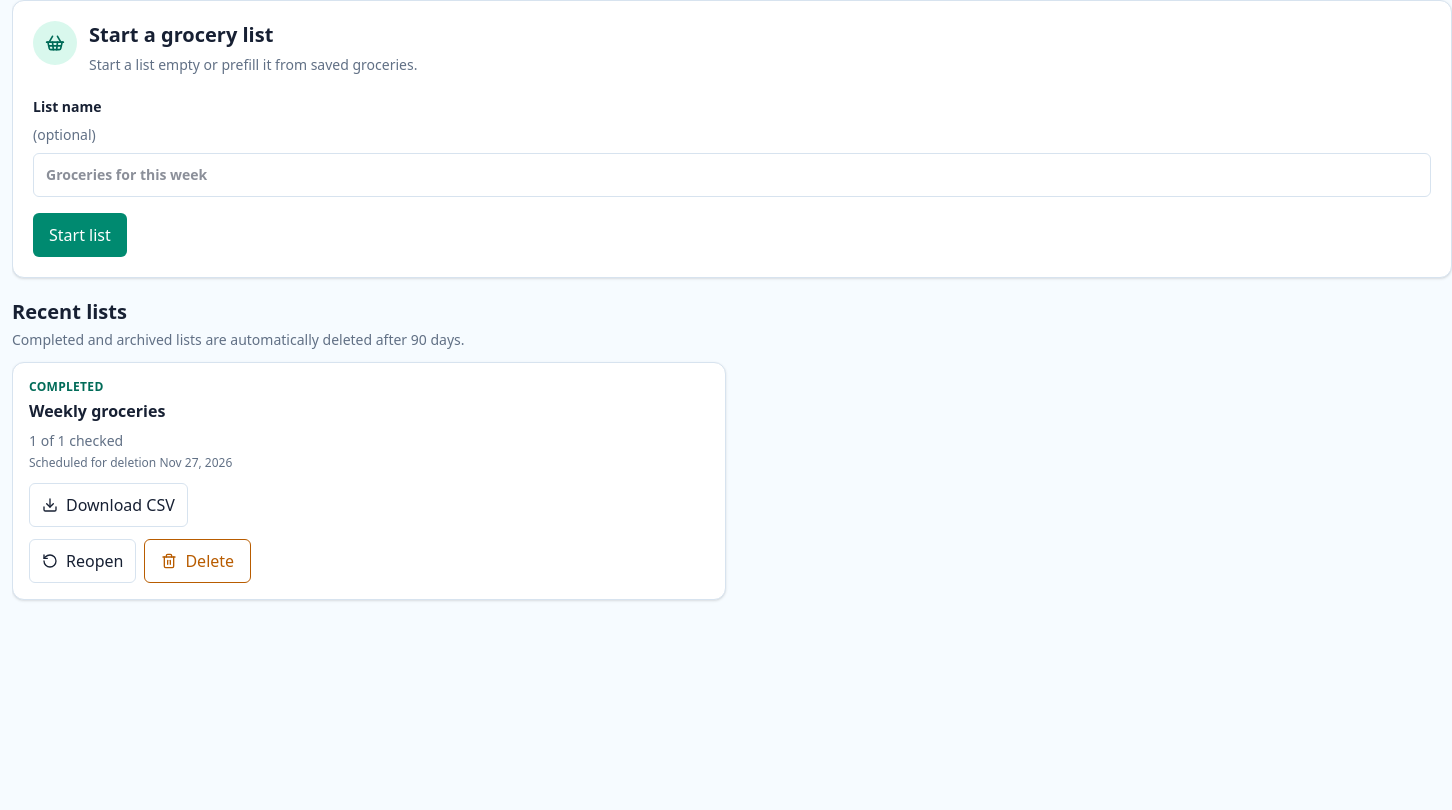
Test: GroceryListManager › confirms permanent list deletion without a browser dialog
The image size is (1452, 810).
Click the button "Delete": point(198, 561) x1=144 y1=539 x2=251 y2=583
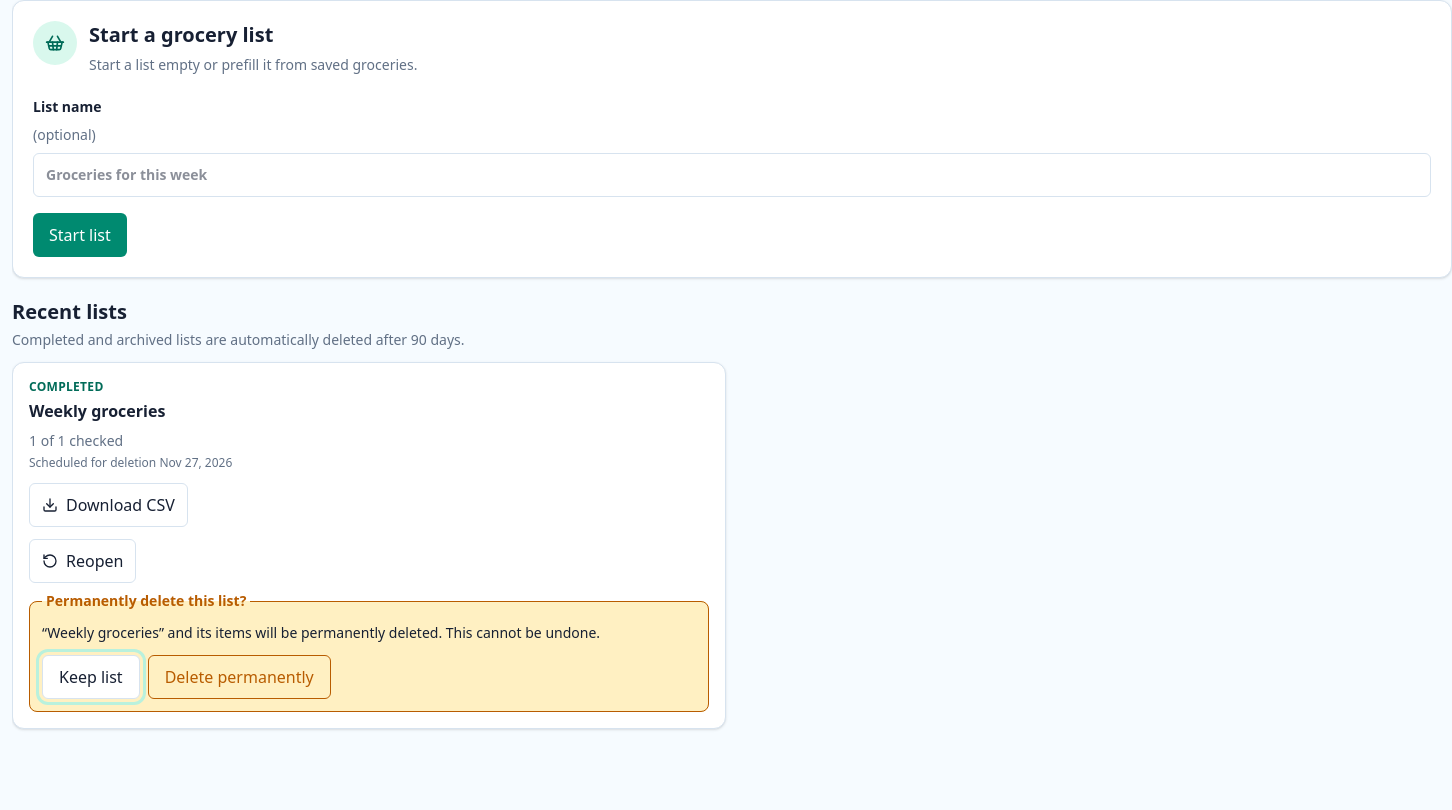
expect the element "Permanently delete this list?" shows "“Weekly groceries” and its items will be permanently deleted. This cannot be undone.": met, box x1=42 y1=623 x2=600 y2=642
Click the button "Keep list": point(91, 677) x1=42 y1=655 x2=140 y2=699
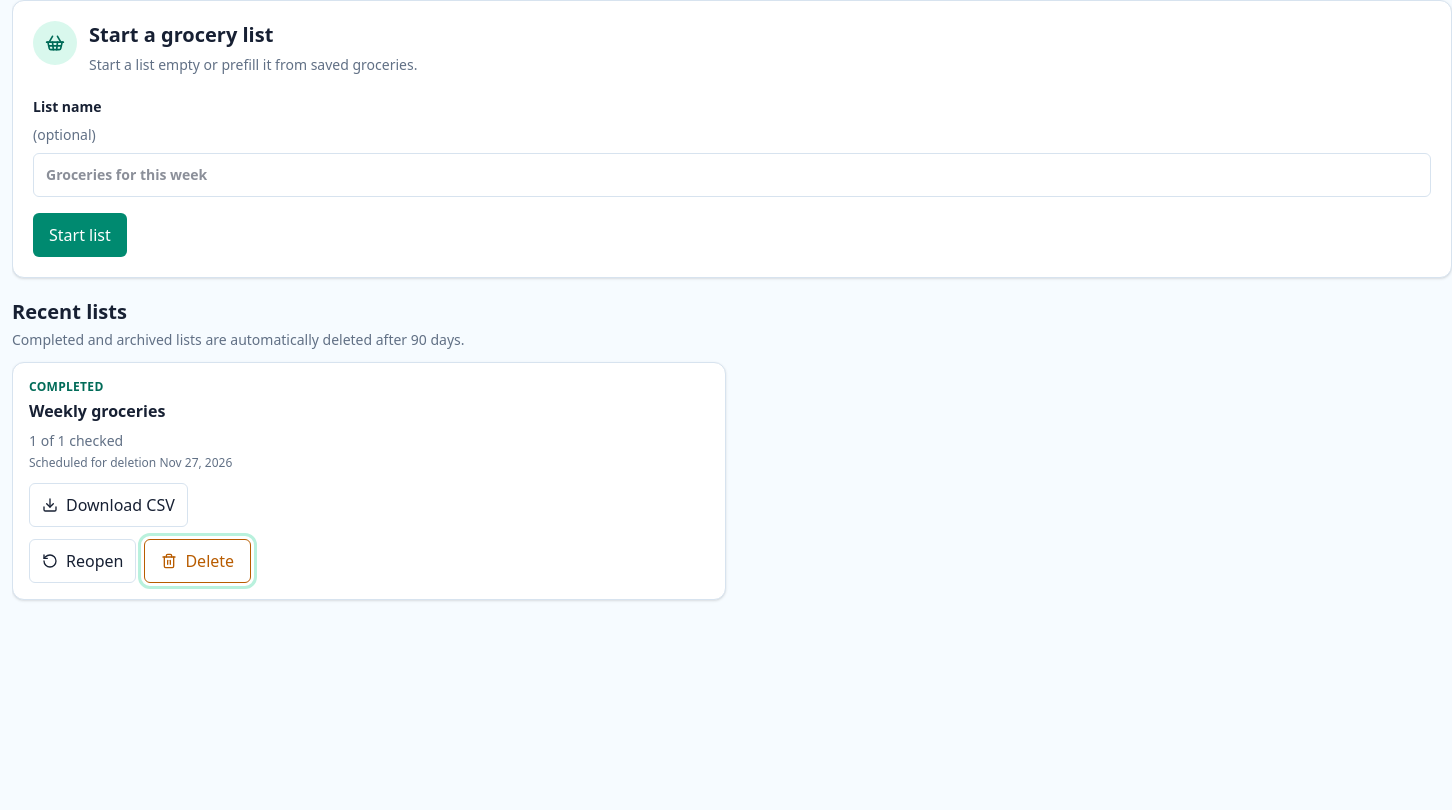
expect the text "Permanently delete this list?" is gone: met
